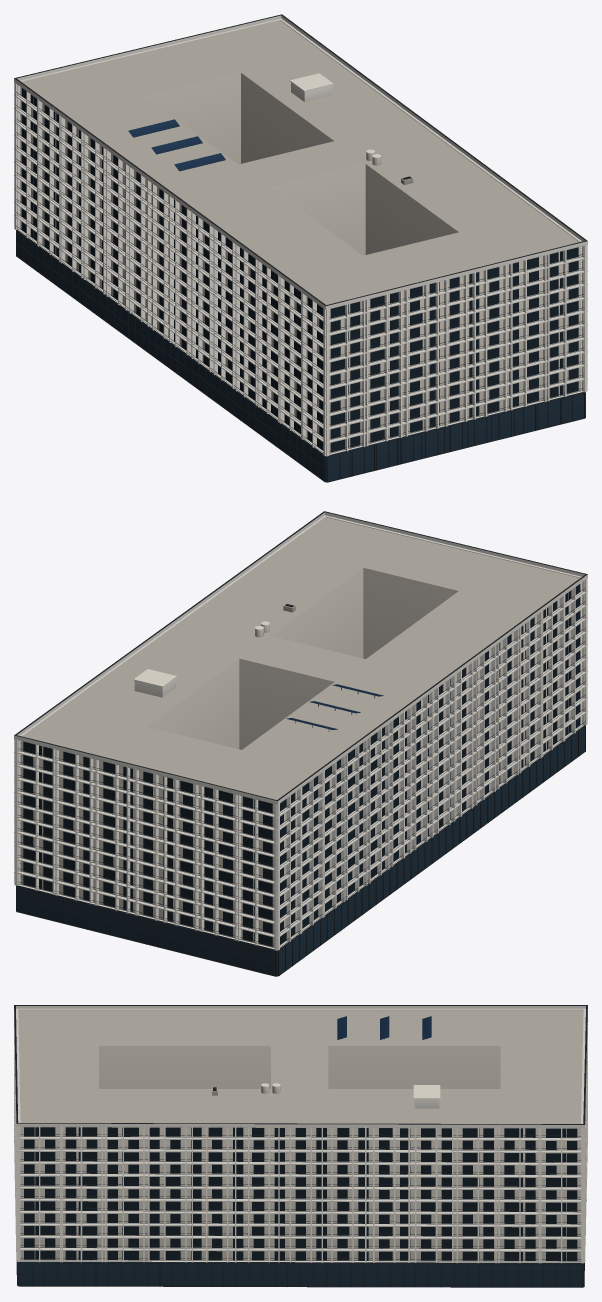
Rendered from tulip_hostel.glb.
3 views of the same model, one above another, from view 1: azimuth 30°, elevation 25°; view 2: azimuth 150°, elevation 25°; view 3: azimuth 270°, elevation 25° (orthographic). The views are drawn at different scales.
Parts seen in each view (by area): view 1: LOD0_High_RoofSlabConcrete, LOD0_High_StuccoWhite, LOD0_High_StuccoWarmTrim, LOD0_High_RecessedCavityGlass, LOD0_High_DarkAnodizedSteel, LOD0_High_CurtainGlass, LOD1_Medium_StuccoWhite, LOD1_Medium_RecessedCavityGlass, LOD0_High_SolarPV; view 2: LOD0_High_RoofSlabConcrete, LOD0_High_StuccoWhite, LOD0_High_StuccoWarmTrim, LOD0_High_RecessedCavityGlass, LOD0_High_DarkAnodizedSteel, LOD0_High_CurtainGlass, LOD1_Medium_StuccoWhite, LOD1_Medium_RecessedCavityGlass; view 3: LOD0_High_RoofSlabConcrete, LOD0_High_StuccoWarmTrim, LOD0_High_StuccoWhite, LOD0_High_RecessedCavityGlass, LOD0_High_DarkAnodizedSteel, LOD0_High_CurtainGlass, LOD1_Medium_RecessedCavityGlass, LOD1_Medium_StuccoWhite, LOD0_High_SolarPV.
Boxes of the visible parts, x1=… form: LOD0_High_RoofSlabConcrete: x1=22, y1=20, x2=578, y2=304; LOD0_High_StuccoWhite: x1=14, y1=15, x2=587, y2=456; LOD0_High_StuccoWarmTrim: x1=18, y1=72, x2=582, y2=454; LOD0_High_RecessedCavityGlass: x1=22, y1=88, x2=578, y2=452; LOD0_High_DarkAnodizedSteel: x1=14, y1=14, x2=587, y2=482; LOD0_High_CurtainGlass: x1=16, y1=230, x2=585, y2=482; LOD1_Medium_StuccoWhite: x1=37, y1=28, x2=549, y2=446; LOD1_Medium_RecessedCavityGlass: x1=30, y1=94, x2=569, y2=449; LOD0_High_SolarPV: x1=128, y1=119, x2=225, y2=171; LOD0_High_RoofSlabConcrete: x1=23, y1=517, x2=579, y2=799; LOD0_High_StuccoWhite: x1=14, y1=512, x2=587, y2=950; LOD0_High_StuccoWarmTrim: x1=19, y1=568, x2=583, y2=949; LOD0_High_RecessedCavityGlass: x1=23, y1=584, x2=580, y2=946; LOD0_High_DarkAnodizedSteel: x1=14, y1=511, x2=587, y2=976; LOD0_High_CurtainGlass: x1=16, y1=725, x2=585, y2=976; LOD1_Medium_StuccoWhite: x1=41, y1=524, x2=565, y2=941; LOD1_Medium_RecessedCavityGlass: x1=32, y1=590, x2=571, y2=944; LOD0_High_RoofSlabConcrete: x1=18, y1=1010, x2=583, y2=1123; LOD0_High_StuccoWarmTrim: x1=20, y1=1046, x2=580, y2=1262; LOD0_High_StuccoWhite: x1=14, y1=1006, x2=587, y2=1263; LOD0_High_RecessedCavityGlass: x1=24, y1=1127, x2=577, y2=1260; LOD0_High_DarkAnodizedSteel: x1=14, y1=1005, x2=587, y2=1287; LOD0_High_CurtainGlass: x1=17, y1=1261, x2=583, y2=1287; LOD1_Medium_RecessedCavityGlass: x1=35, y1=1127, x2=566, y2=1260; LOD1_Medium_StuccoWhite: x1=16, y1=1008, x2=587, y2=1263; LOD0_High_SolarPV: x1=337, y1=1016, x2=431, y2=1039.
Size of the model in its own units: 70.49 by 46.97 by 143.
